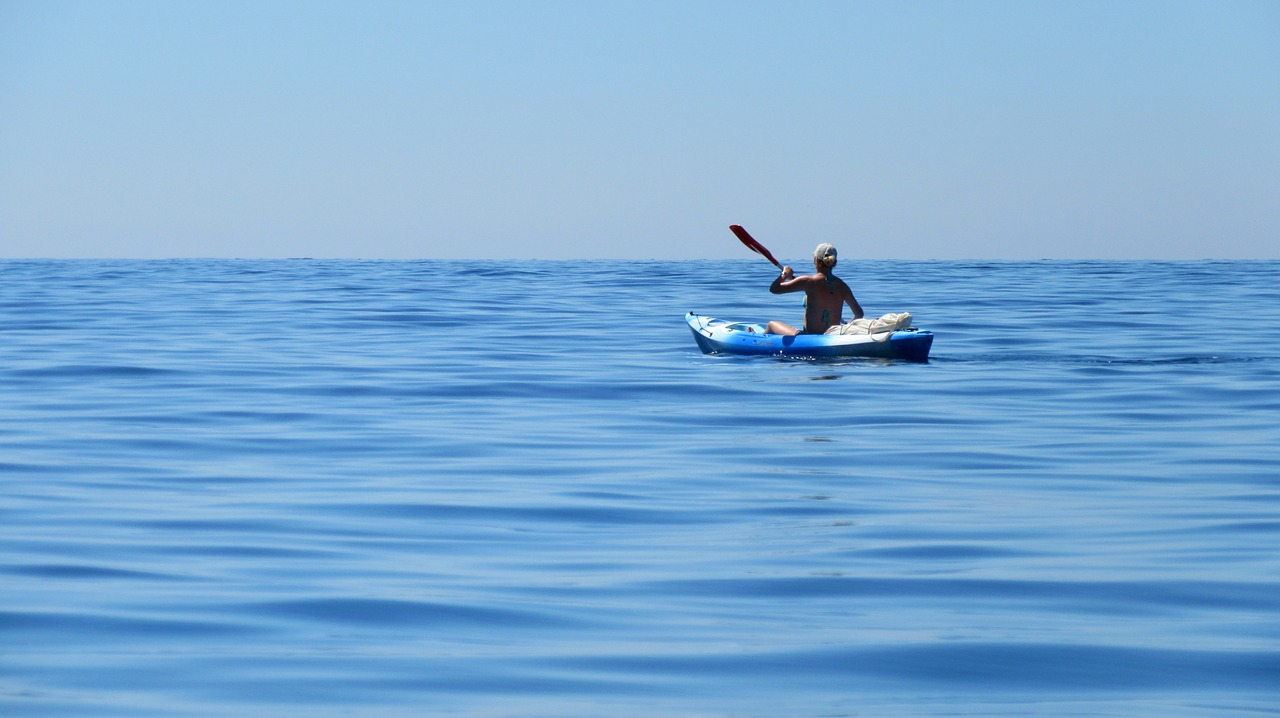kayak: (677, 305, 938, 365)
